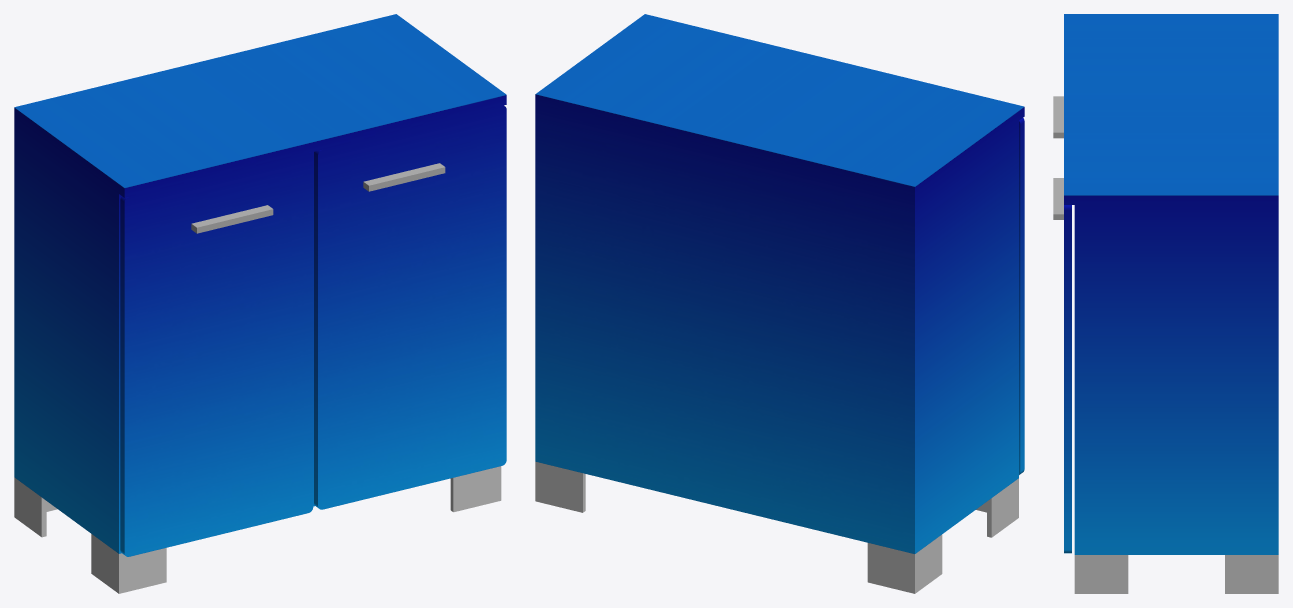
The model's file is mobilettoBlu.obj.
3 views of the same model, side by side, from view 1: azimuth 30°, elevation 25°; view 2: azimuth 150°, elevation 25°; view 3: azimuth 270°, elevation 25° (orthographic). The views are drawn at different scales.
Parts seen in each view (by area): view 1: Rectangle20_9, Rectangle19_10, Box33_7, Box31_8, Line20_6, Line17_3, Line18_4, Box30_1, Box32_5; view 2: Box31_8, Box33_7, Line18_4, Rectangle20_9, Line16_2, Line20_6; view 3: Box31_8, Box33_7, Rectangle19_10, Line17_3, Line16_2, Box30_1, Box32_5.
Boxes of the visible parts, bbox=[...] form: Rectangle20_9: bbox=[120, 152, 313, 556]; Rectangle19_10: bbox=[314, 105, 506, 509]; Box33_7: bbox=[14, 14, 506, 197]; Box31_8: bbox=[14, 117, 314, 553]; Line20_6: bbox=[91, 534, 166, 593]; Line17_3: bbox=[450, 466, 501, 512]; Line18_4: bbox=[14, 477, 57, 537]; Box30_1: bbox=[191, 205, 273, 233]; Box32_5: bbox=[363, 163, 445, 191]; Box31_8: bbox=[535, 104, 1018, 553]; Box33_7: bbox=[535, 14, 1024, 196]; Line18_4: bbox=[867, 534, 942, 593]; Rectangle20_9: bbox=[1019, 118, 1024, 474]; Line16_2: bbox=[535, 461, 585, 512]; Line20_6: bbox=[976, 478, 1018, 537]; Box31_8: bbox=[1074, 205, 1278, 554]; Box33_7: bbox=[1064, 14, 1278, 204]; Rectangle19_10: bbox=[1064, 205, 1071, 553]; Line17_3: bbox=[1074, 555, 1128, 593]; Line16_2: bbox=[1225, 555, 1278, 593]; Box30_1: bbox=[1053, 96, 1063, 138]; Box32_5: bbox=[1053, 178, 1063, 219].
Bounding box in the file's own units: 80 × 82 × 42.
3 materials, 1 textured.
